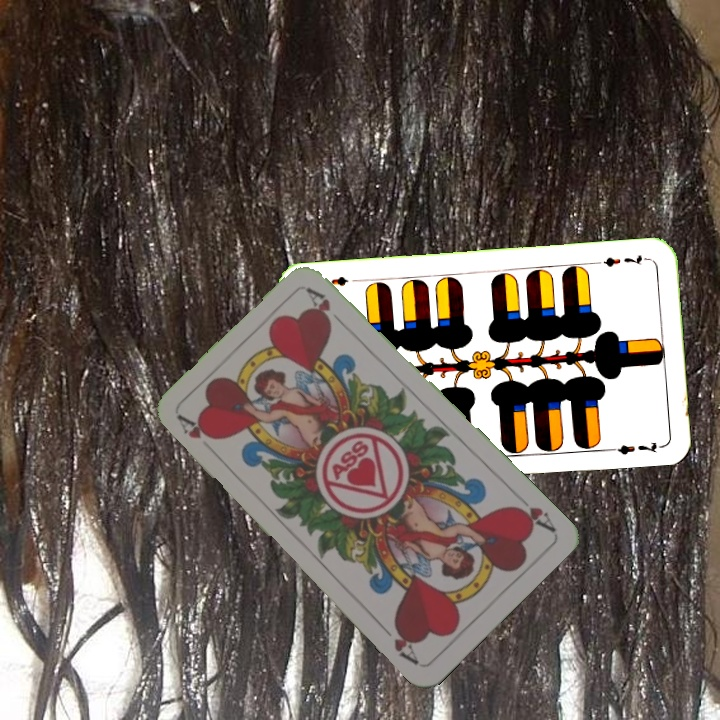E7: (592, 251, 652, 269)
HA: (507, 488, 558, 534), (174, 411, 214, 442)
